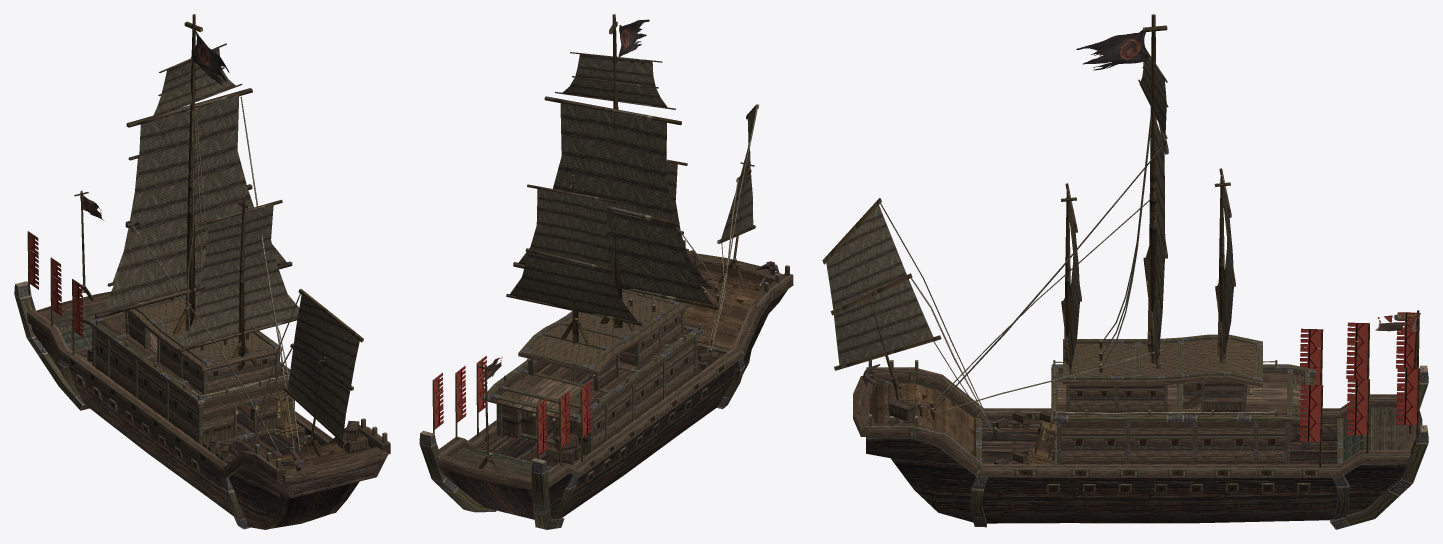
Rendered from ship08.fbx.
3 views of the same model, side by side, from view 1: azimuth 30°, elevation 25°; view 2: azimuth 150°, elevation 25°; view 3: azimuth 270°, elevation 25° (orthographic). The views are drawn at different scales.
Visible parts, largest first — view 1: ship08; view 2: ship08; view 3: ship08.
Part boxes in pixels (<box>): ship08: <box>14,14,390,529</box>; ship08: <box>419,14,793,529</box>; ship08: <box>822,14,1428,529</box>.
Bounding box in the file's own units: 2376 × 5063 × 5673.
